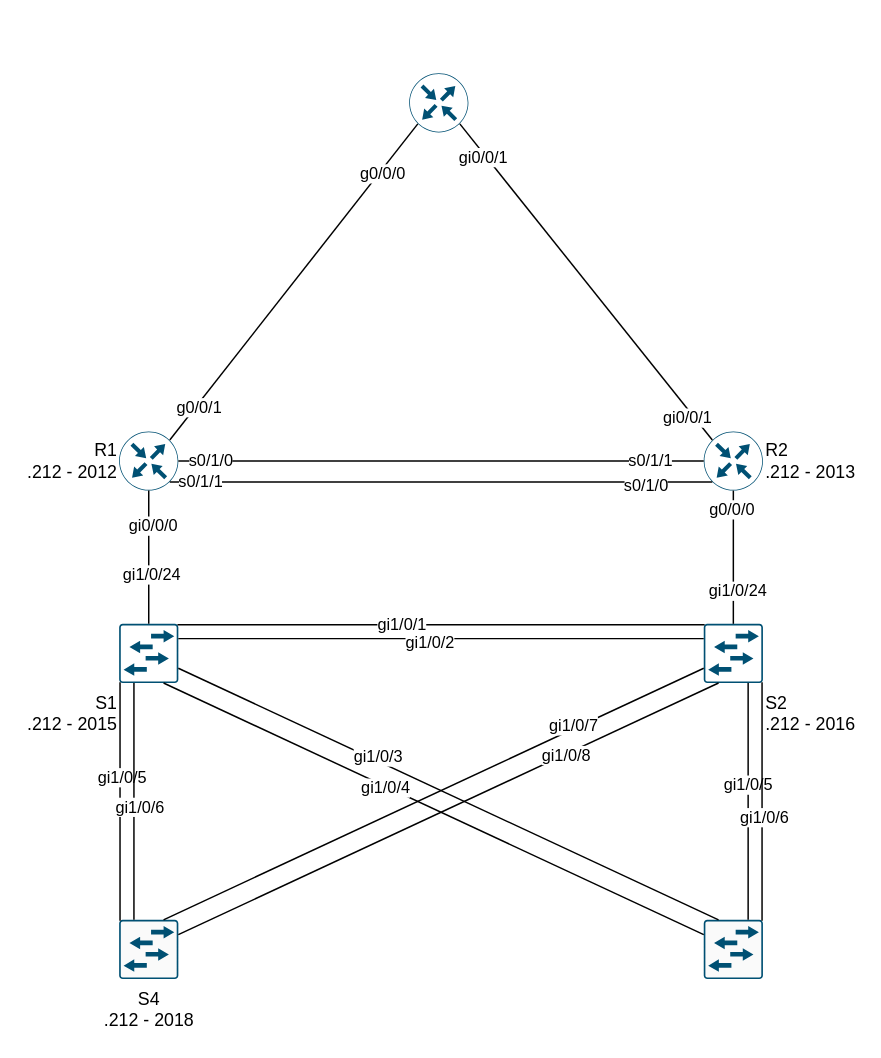
This 881x1058 diagram has some shape labels left out. Here are the shapes that lost their labels. From the top down, the centre of each, then its label:
point 438,102: R3 .212 - 2014
point 732,948: S3 .212 - 2017
